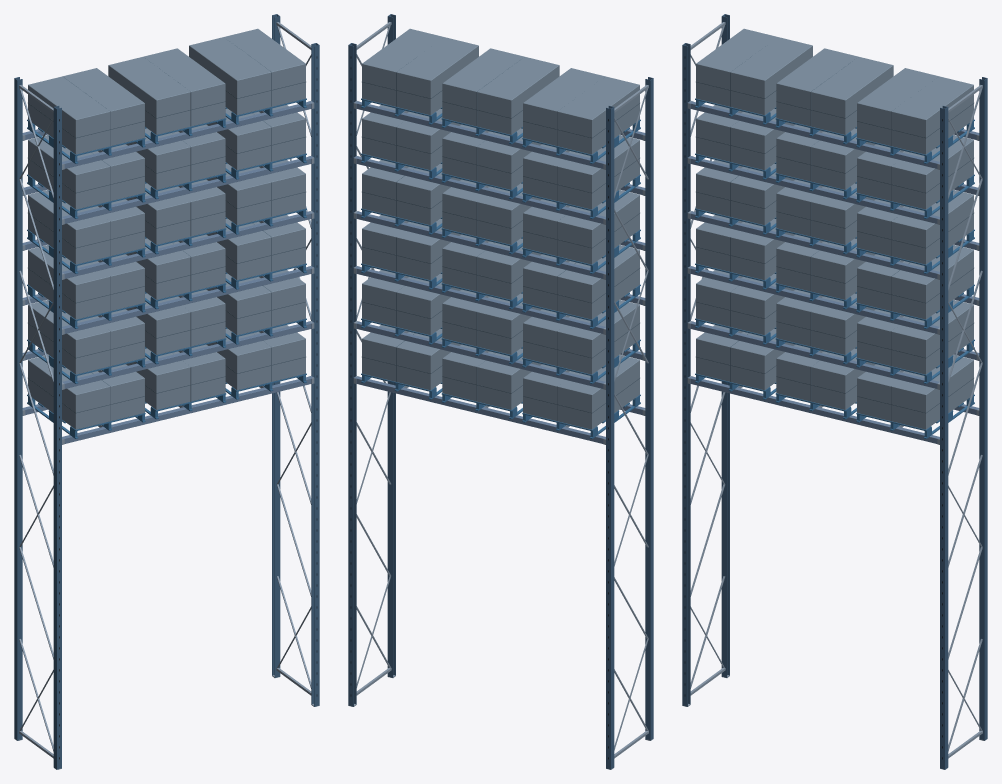
File: SM_GHS_CADRack_B_Pass.fbx
The picture shows the model from 3 angles, left to right: view 1: azimuth 30°, elevation 25°; view 2: azimuth 150°, elevation 25°; view 3: azimuth 330°, elevation 25°; orthographic projection.
Visible parts, largest first — view 1: SM_GHS_CADRack_B_Pass; view 2: SM_GHS_CADRack_B_Pass; view 3: SM_GHS_CADRack_B_Pass.
Boxes of the visible parts, bbox=[...] form: SM_GHS_CADRack_B_Pass: bbox=[14, 14, 319, 769]; SM_GHS_CADRack_B_Pass: bbox=[348, 14, 653, 769]; SM_GHS_CADRack_B_Pass: bbox=[682, 14, 987, 769].
Size of the model in its own units: 381 by 122 by 915.
